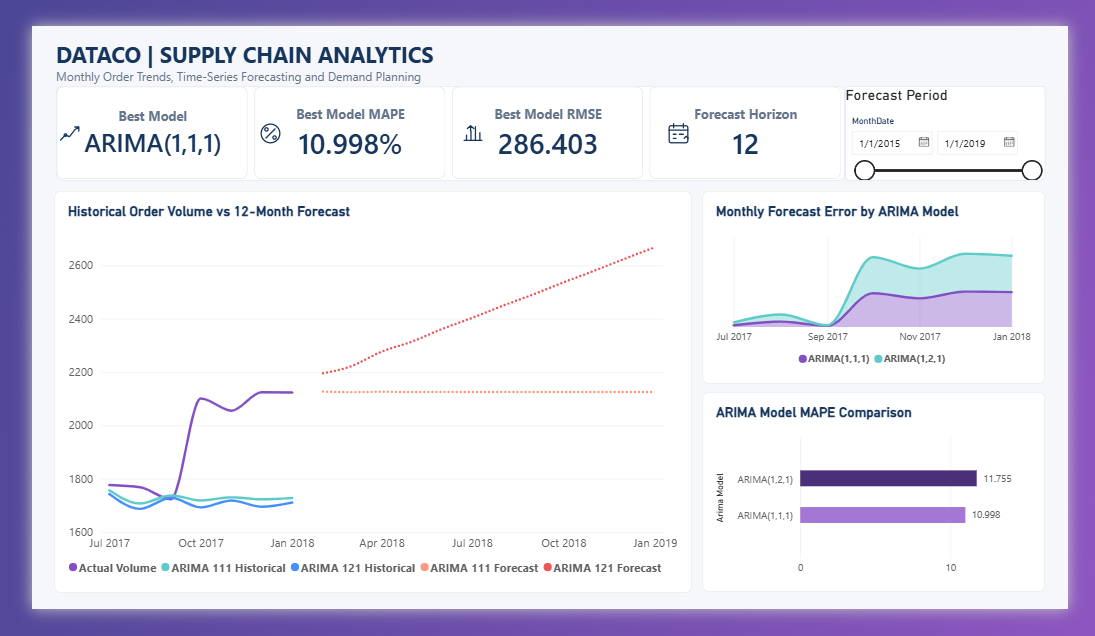

The page's visual inventory and layout, read from the dashboard file:
{"tool":"powerbi","page":{"name":"Order-Volume Forecast","canvas":[1280,720],"ordinal":4},"visuals":[{"type":"cardVisual","fields":{"Data":["Measure.Best Model","Measure.Best Model MAPE Display","Measure.Best Model RMSE","Measure.Forecast Horizon"]},"box":[29.5,73.8,973.8,116.4],"z":0,"group":"g1"},{"type":"lineChart","title":"Historical Order Volume vs 12-Month Forecast","fields":{"Category":["Forecast_Calendar.MonthDate.Variation.Date Hierarchy.Year","Forecast_Calendar.MonthDate.Variation.Date Hierarchy.Month"],"Y":["Measure.Historical Actual Volume","Measure.ARIMA 111 Historical Prediction","Measure.ARIMA 121 Historical Prediction","Measure.ARIMA 111 Future Forecast","Measure.ARIMA 121 Future Forecast"]},"box":[28.2,203,786.8,496.3],"z":0},{"type":"textbox","box":[29.5,16.4,961.8,64.7],"z":1000,"group":"g1"},{"type":"slicer","title":"Forecast Period","fields":{"Values":["Forecast_Calendar.MonthDate"]},"box":[1003.3,73.8,247.5,116.4],"z":2000},{"type":"image","box":[29.5,117.2,33.2,31.8],"z":2000,"group":"g1"},{"type":"image","box":[277.4,117.2,33.2,31.8],"z":3000,"group":"g1"},{"type":"image","box":[528.5,117.2,33.2,31.8],"z":4000,"group":"g1"},{"type":"image","box":[781.3,117.2,33.2,31.8],"z":5000,"group":"g1"},{"type":"clusteredBarChart","title":"ARIMA Model MAPE Comparison","fields":{"Category":["Order_Volume_Model_Metrics.Model"],"Y":["Avg(Order_Volume_Model_Metrics.MAPE)"]},"box":[827.6,452.6,423,246.7],"z":6000},{"type":"stackedAreaChart","title":"Monthly Forecast Error by ARIMA Model","fields":{"Category":["Order_Volume_Model_Evaluation.MonthDate"],"Series":["Order_Volume_Model_Evaluation.Model"],"Y":["Avg(Order_Volume_Model_Evaluation.Absolute_Error)"]},"box":[827.6,203,423,238.3],"z":7000},{"type":"group","id":"g1","title":"Group 1","box":[29.5,16.4,973.8,173.8],"z":7005}]}

Visuals, with their boxes on the page's 1280x720 design canvas (x1, y1, x2, y2). These are canvas units, not pixel positions in the 1095x636 screenshot, which may show the page scaled, cropped or inside an application window:
cardVisual - Measure.Best Model x Measure.Best Model MAPE Display: <box>30,74,1003,190</box>
"Historical Order Volume vs 12-Month Forecast" lineChart: <box>28,203,815,699</box>
textbox: <box>30,16,991,81</box>
"Forecast Period" slicer: <box>1003,74,1251,190</box>
image: <box>30,117,63,149</box>
image: <box>277,117,311,149</box>
image: <box>528,117,562,149</box>
image: <box>781,117,814,149</box>
"ARIMA Model MAPE Comparison" clusteredBarChart: <box>828,453,1251,699</box>
"Monthly Forecast Error by ARIMA Model" stackedAreaChart: <box>828,203,1251,441</box>
"Group 1" group: <box>30,16,1003,190</box>
